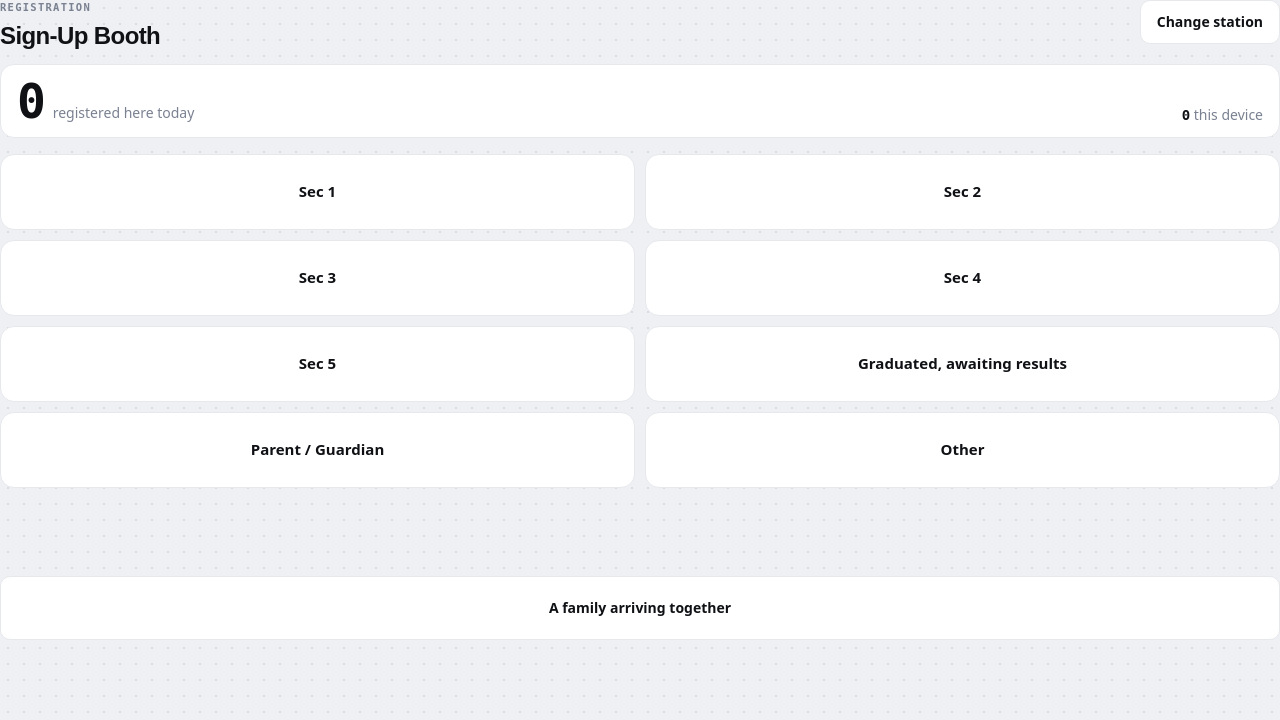
Test: Registration screen › FR-REG-2: a family of 4 is sent as 4 records sharing one group ID
This screenshot has width=1280, height=720.
Expected: the heading "Sign-Up Booth" is shown, x1=0 y1=20 x2=160 y2=52
Expected: the text with test id "station-total" reads "0", x1=17 y1=73 x2=45 y2=129
Click the button "A family arriving together": (640, 608) x1=0 y1=576 x2=1279 y2=640
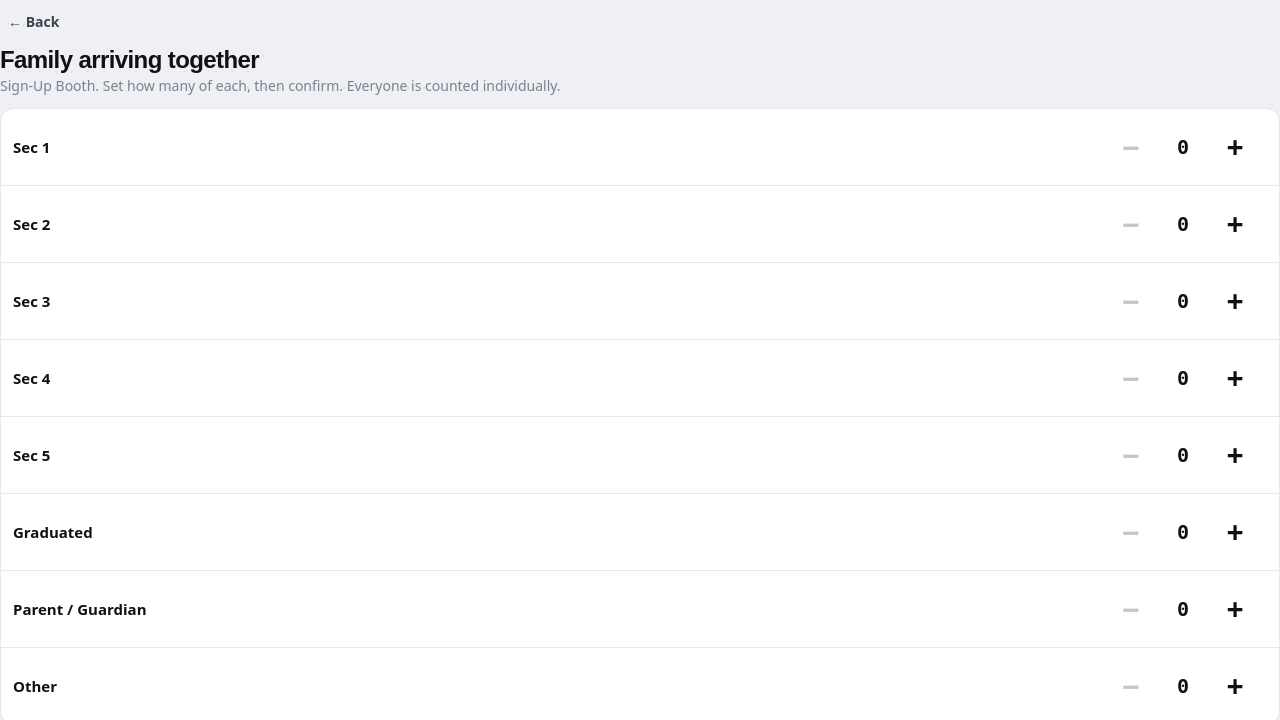
Click the button named "One more Sec 4": (1235, 378) x1=1203 y1=346 x2=1267 y2=410
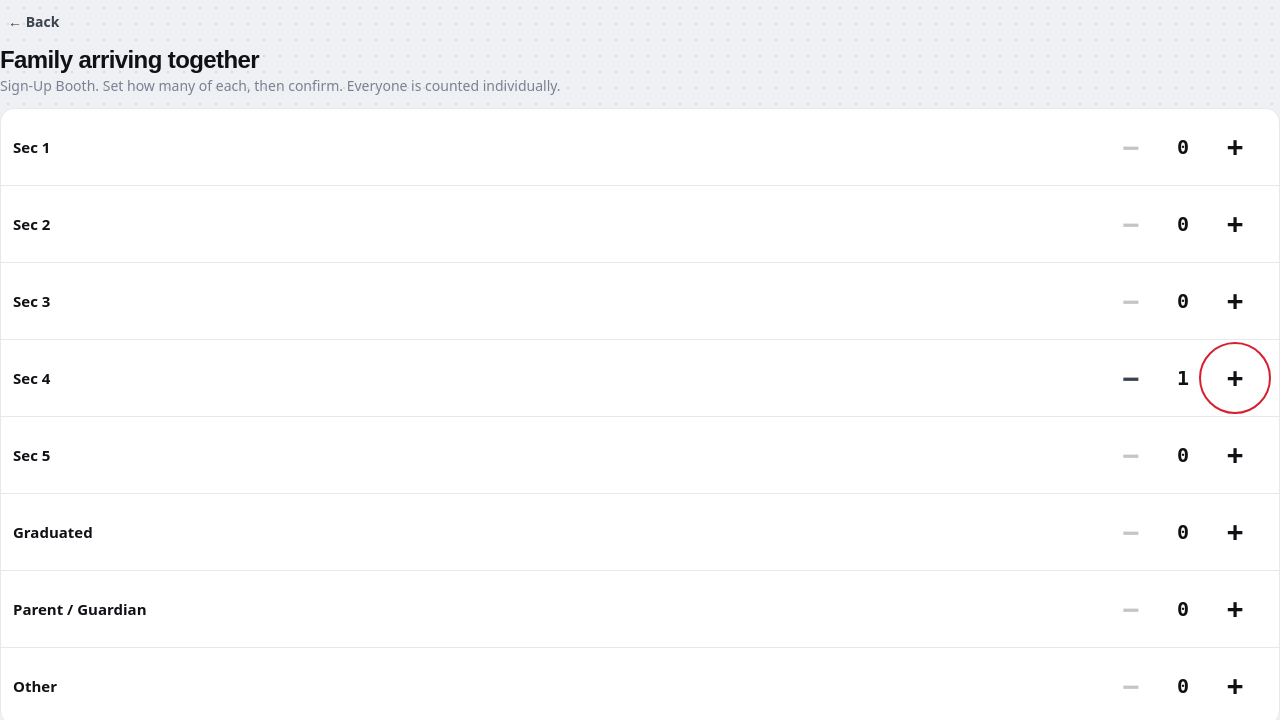
Click the button named "One more Parent / Guardian": (1235, 609) x1=1203 y1=577 x2=1267 y2=641
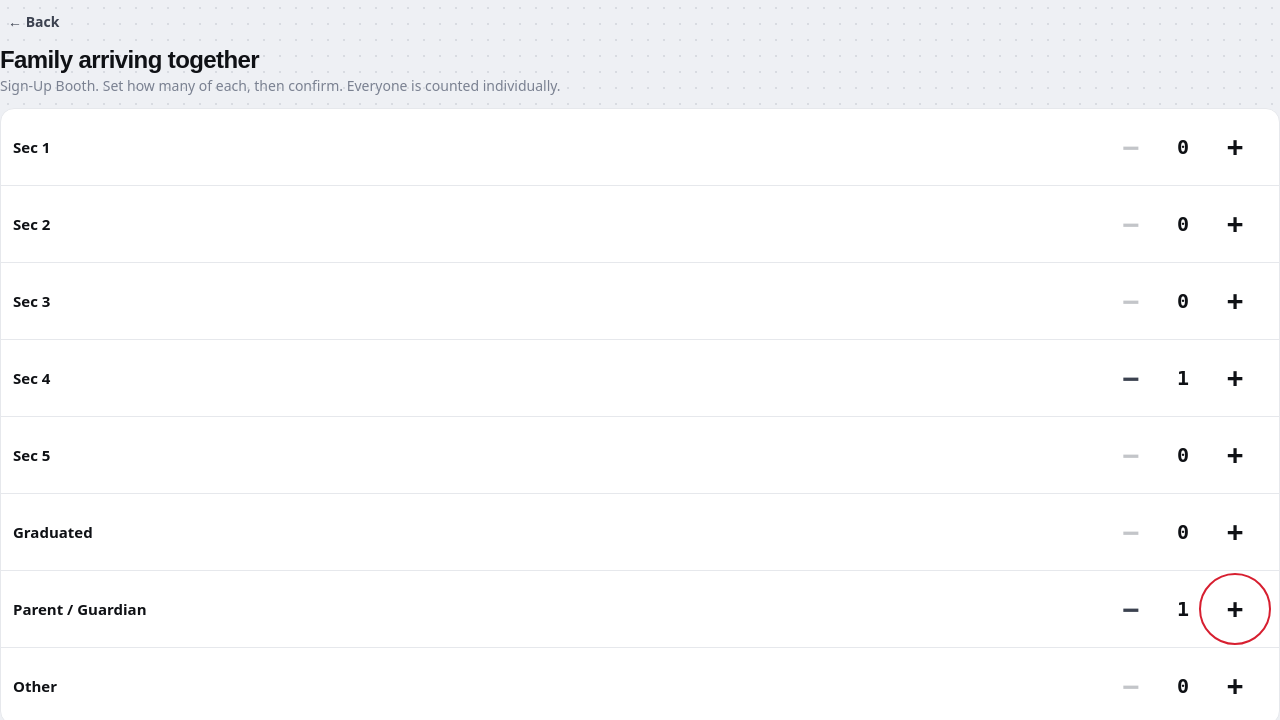
Click the button named "One more Parent / Guardian": (1235, 609) x1=1203 y1=577 x2=1267 y2=641
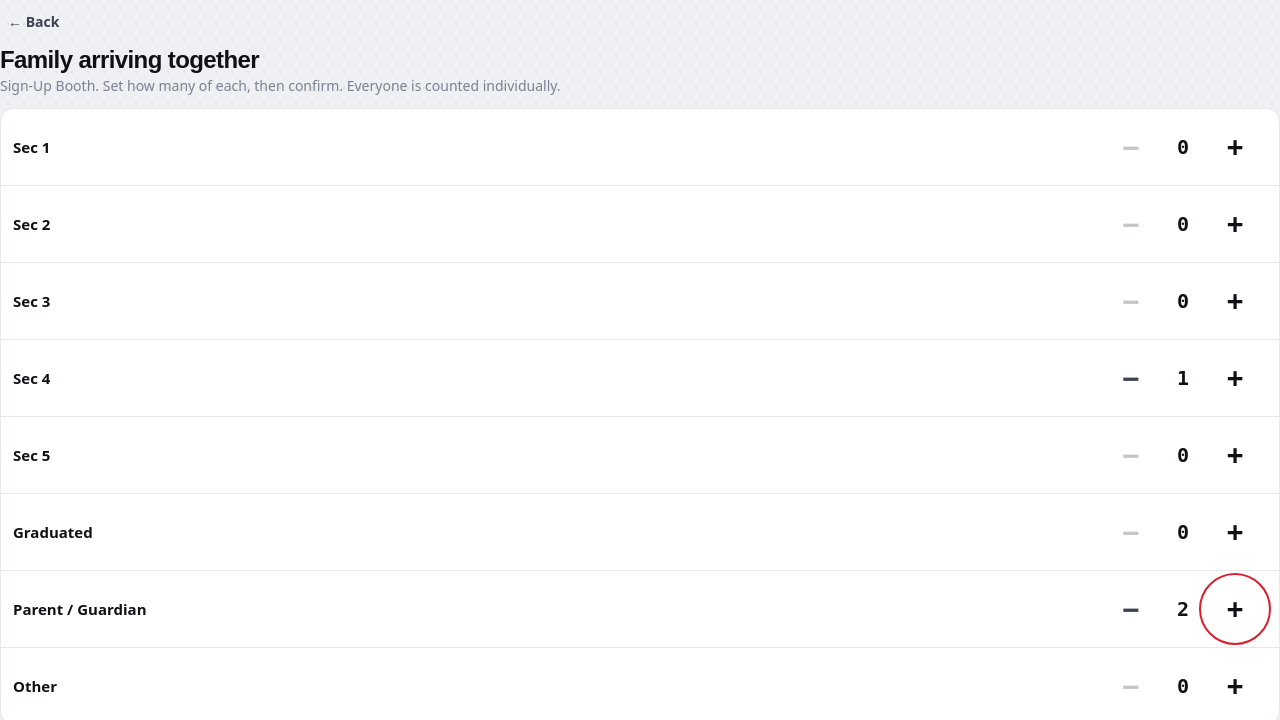
Click the button named "One more Other": (1235, 686) x1=1203 y1=654 x2=1267 y2=718
(page scrolled)
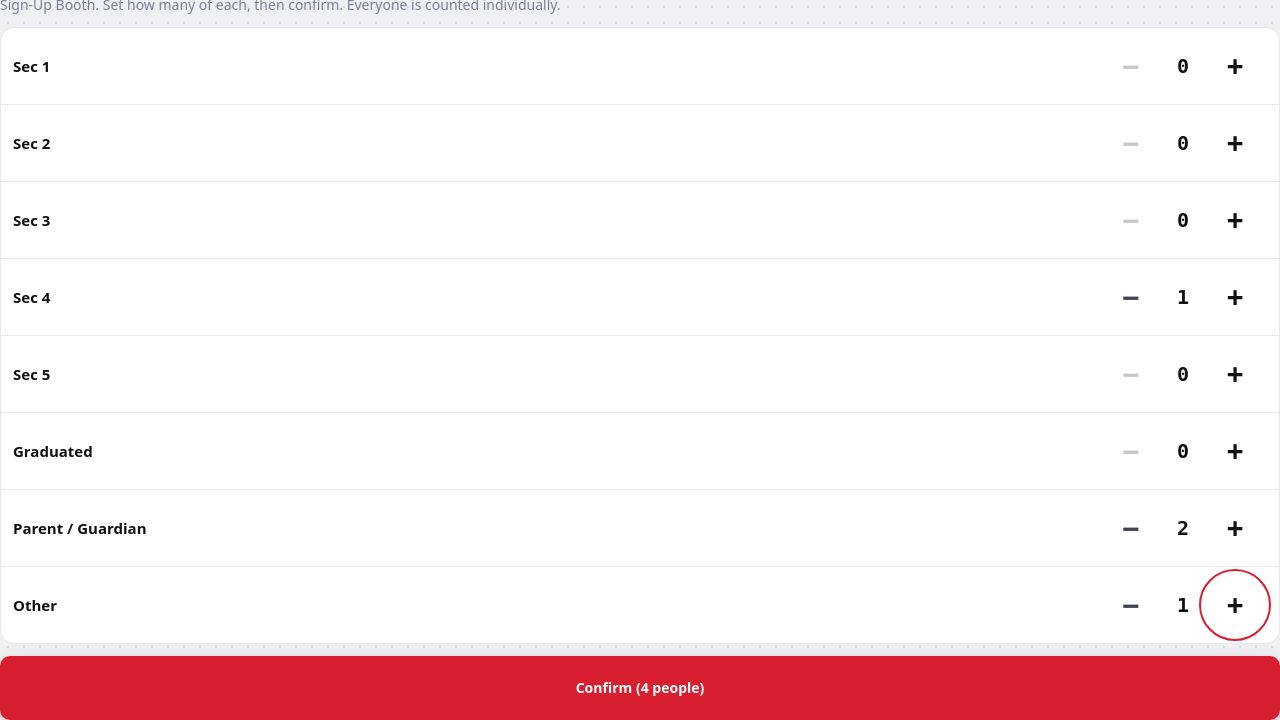
Click the button "Confirm (4 people)": (640, 688) x1=0 y1=656 x2=1279 y2=719
(page scrolled)
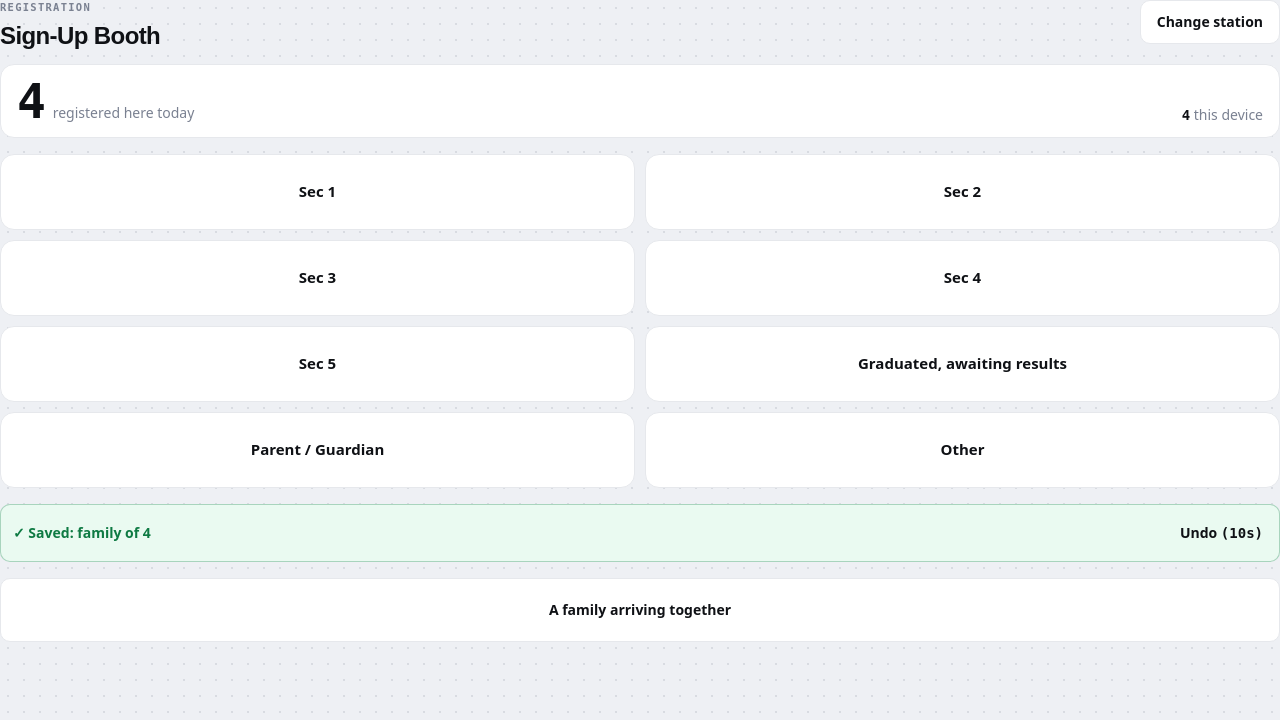
Result: the text "✓ Saved: family of 4" is shown at x1=13 y1=523 x2=151 y2=543
Result: the text with test id "station-total" reads "4" at x1=17 y1=73 x2=45 y2=129
